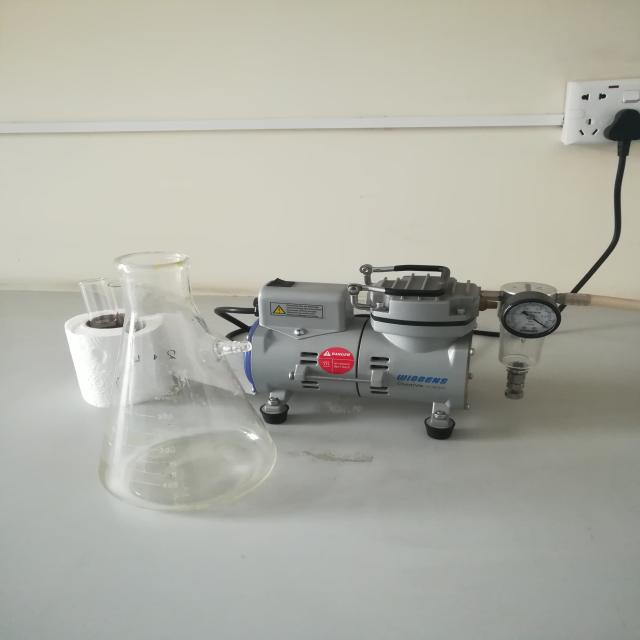Conical_Flask: (67, 244, 328, 532)
